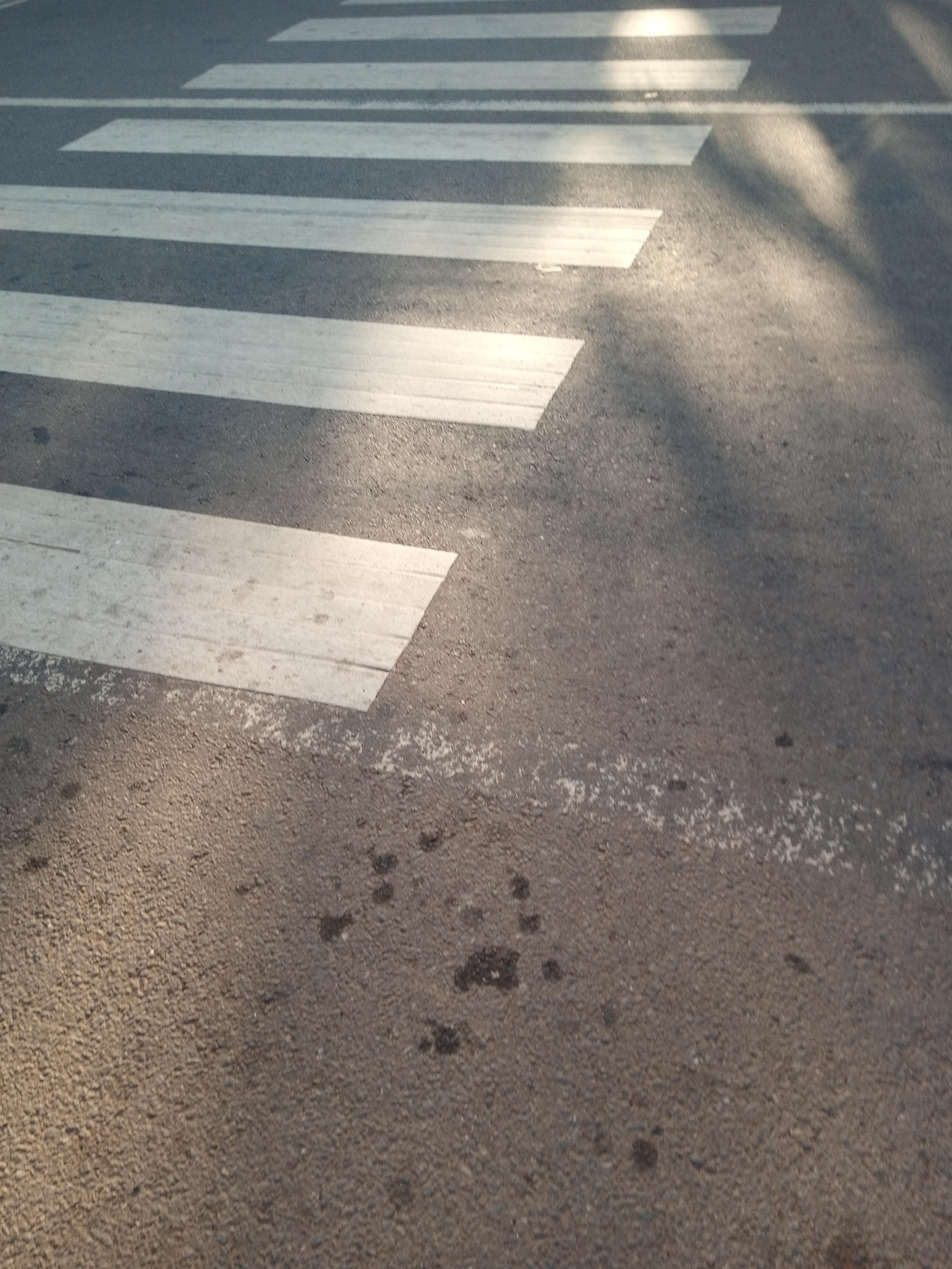crosswalk: (1, 6, 782, 718)
